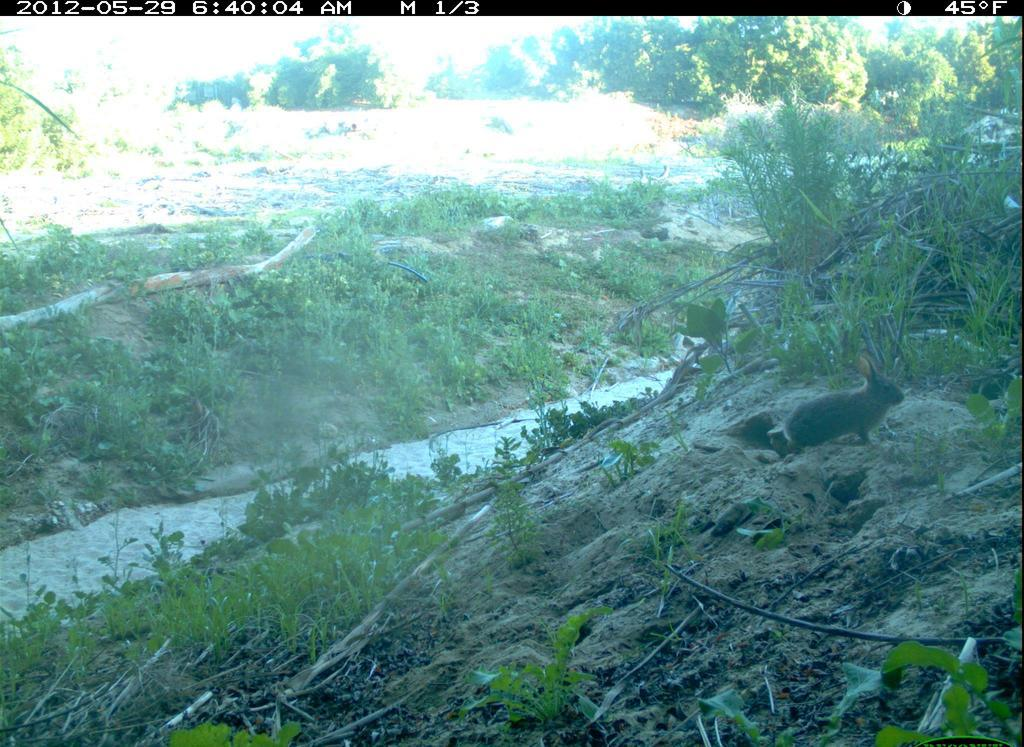rabbit: (754, 341, 916, 452)
